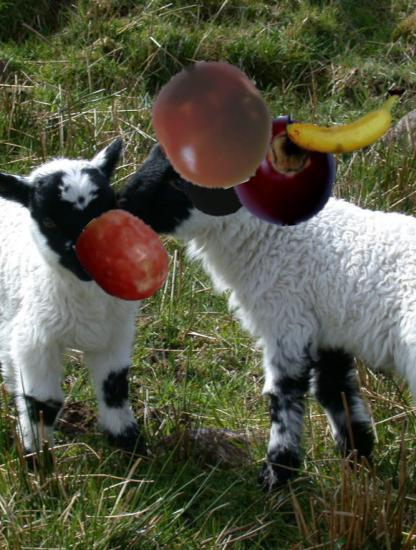Banana: (291, 63, 398, 170)
Grape: (76, 207, 174, 305), (182, 138, 262, 218)
Tamarillo: (229, 116, 340, 227)
Tomato: (149, 61, 278, 190)
